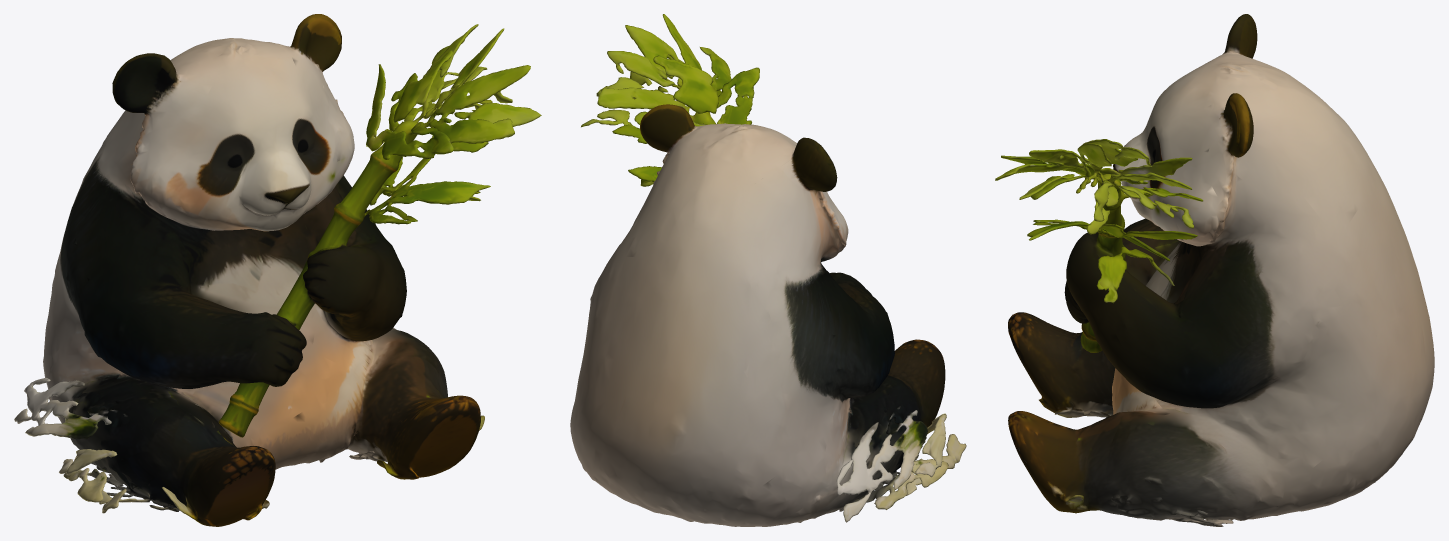
The model's file is NodePreview_20260426_211008.glb.
3 renders of one model, left to right at view 1: azimuth 30°, elevation 25°; view 2: azimuth 150°, elevation 25°; view 3: azimuth 270°, elevation 25°, orthographic. The views are drawn at different scales.
Visible parts, largest first — view 1: material; view 2: material; view 3: material.
Part boxes in pixels (x1,y1,x2,y2): material: (14, 14, 541, 526); material: (570, 14, 966, 526); material: (995, 14, 1434, 526).
Bounding box in the file's own units: 0.7837 × 0.7862 × 0.745.
1 material, 1 textured.
